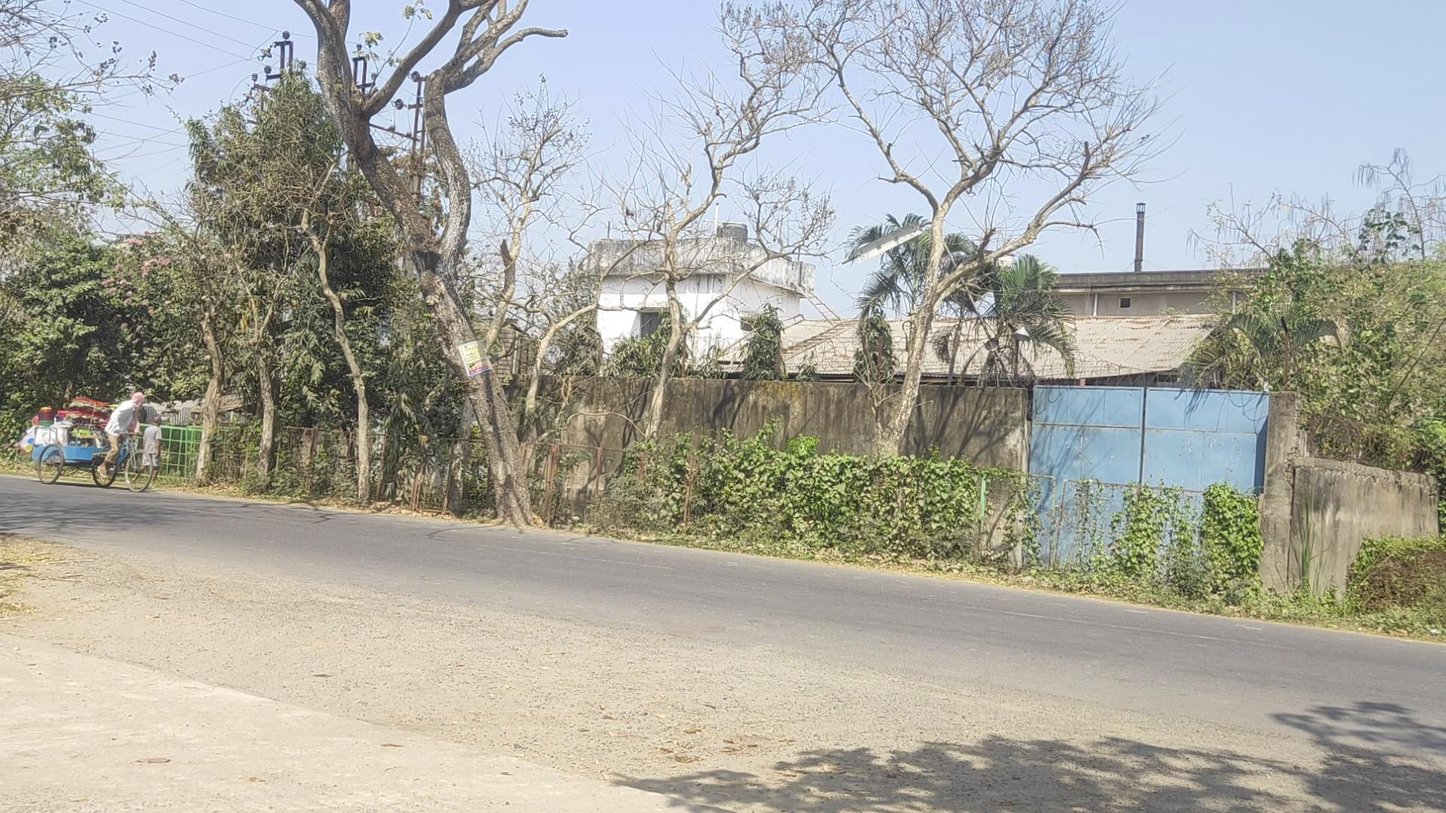bike: (18, 392, 154, 492)
